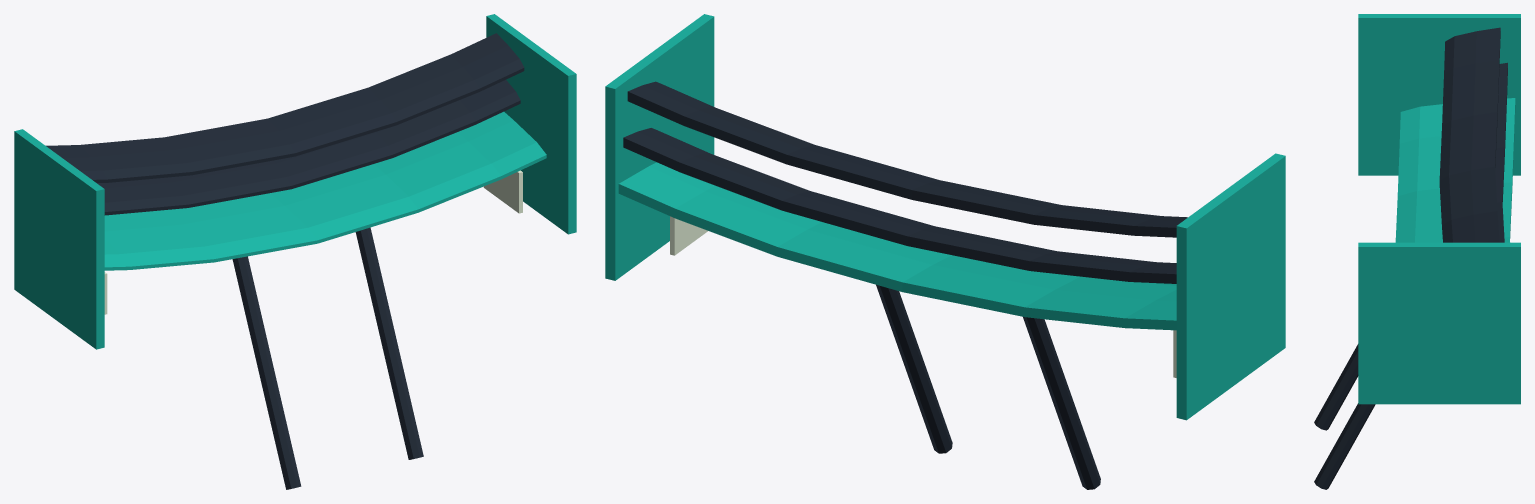
The model's file is vortex.glb.
3 views of the same model, side by side, from view 1: azimuth 30°, elevation 25°; view 2: azimuth 150°, elevation 25°; view 3: azimuth 270°, elevation 25° (orthographic). The views are drawn at different scales.
Visible parts, largest first — view 1: RearWing; view 2: RearWing; view 3: RearWing.
Part boxes in pixels (x1,y1,x2,y2): RearWing: (14, 14, 576, 489); RearWing: (605, 14, 1285, 489); RearWing: (1314, 14, 1520, 489).
Bounding box in the file's own units: 1.49 × 0.98 × 0.5596.
